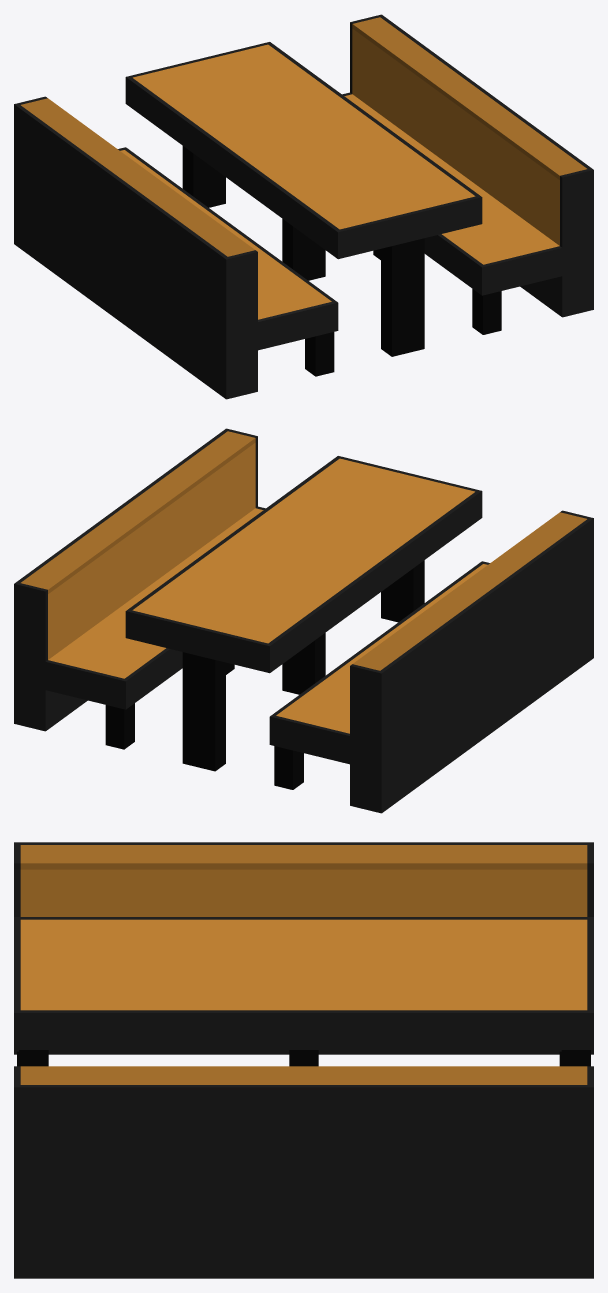
File: SeatingBooth-Canteen_01.fbx
3 views of the same model, one above another, from view 1: azimuth 30°, elevation 25°; view 2: azimuth 150°, elevation 25°; view 3: azimuth 270°, elevation 25° (orthographic). The views are drawn at different scales.
Parts seen in each view (by area): view 1: SeatingBooth_01; view 2: SeatingBooth_01; view 3: SeatingBooth_01.
Part boxes in pixels (x1,y1,x2,y2): SeatingBooth_01: (14, 14, 593, 399); SeatingBooth_01: (14, 428, 593, 813); SeatingBooth_01: (14, 842, 593, 1278).
Bounding box in the file's own units: 2.75 × 1 × 2.75.
